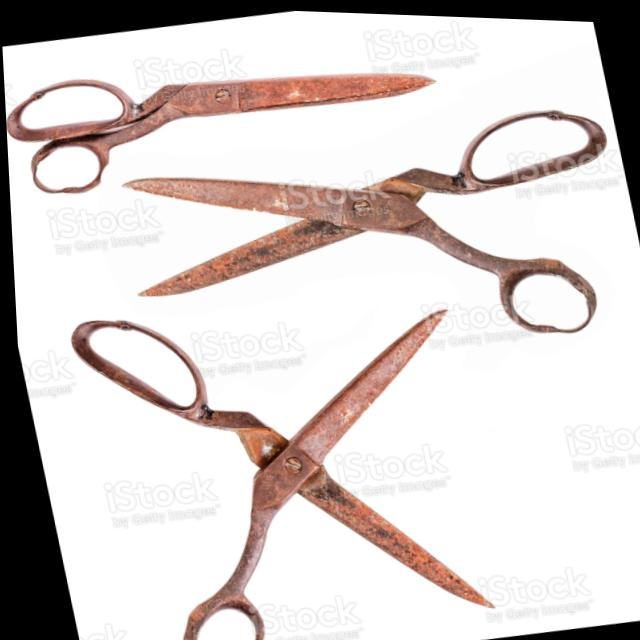scissor: (70, 261, 515, 640)
